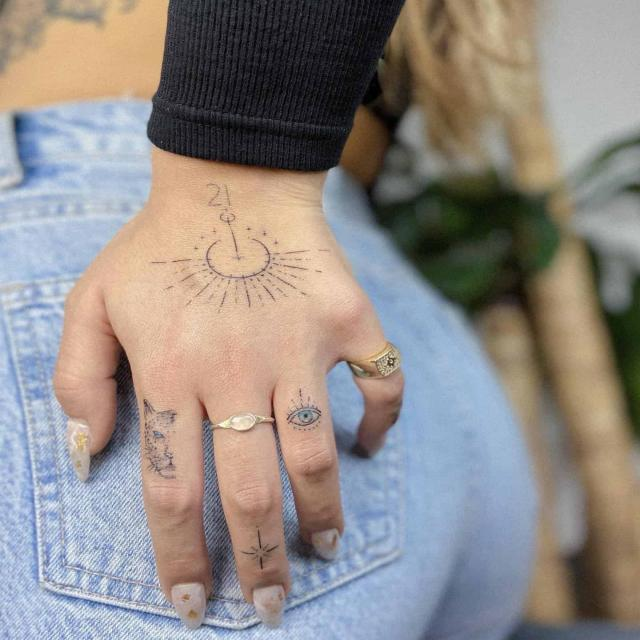no-gloves: (50, 158, 407, 626)
